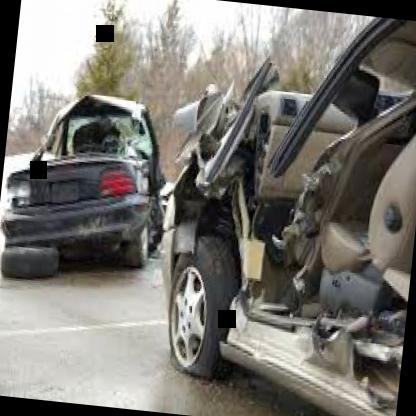accident: (148, 0, 416, 416), (0, 49, 181, 328)
